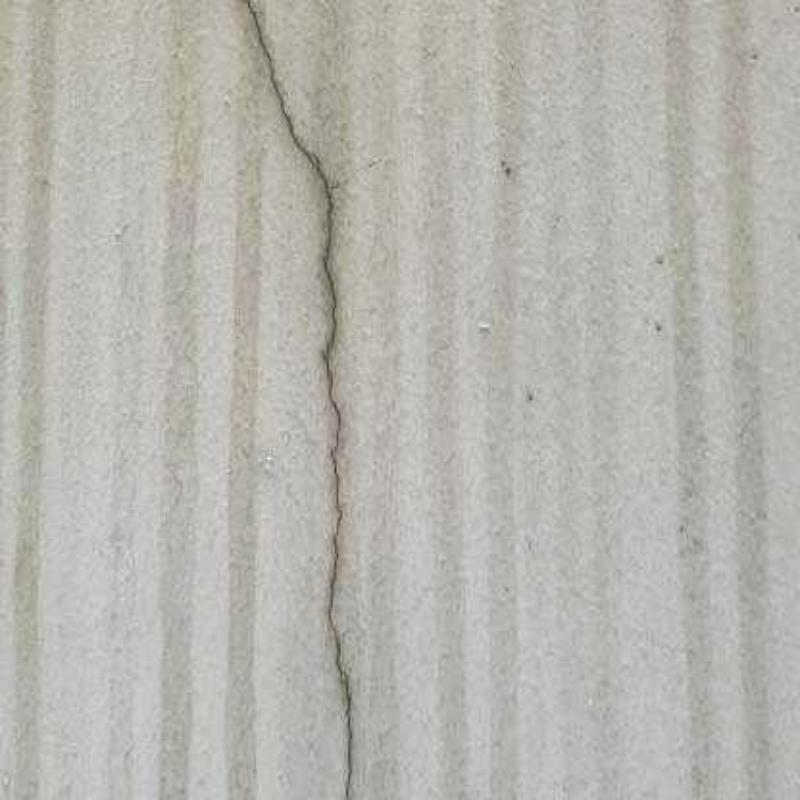crack: (242, 0, 353, 800)
